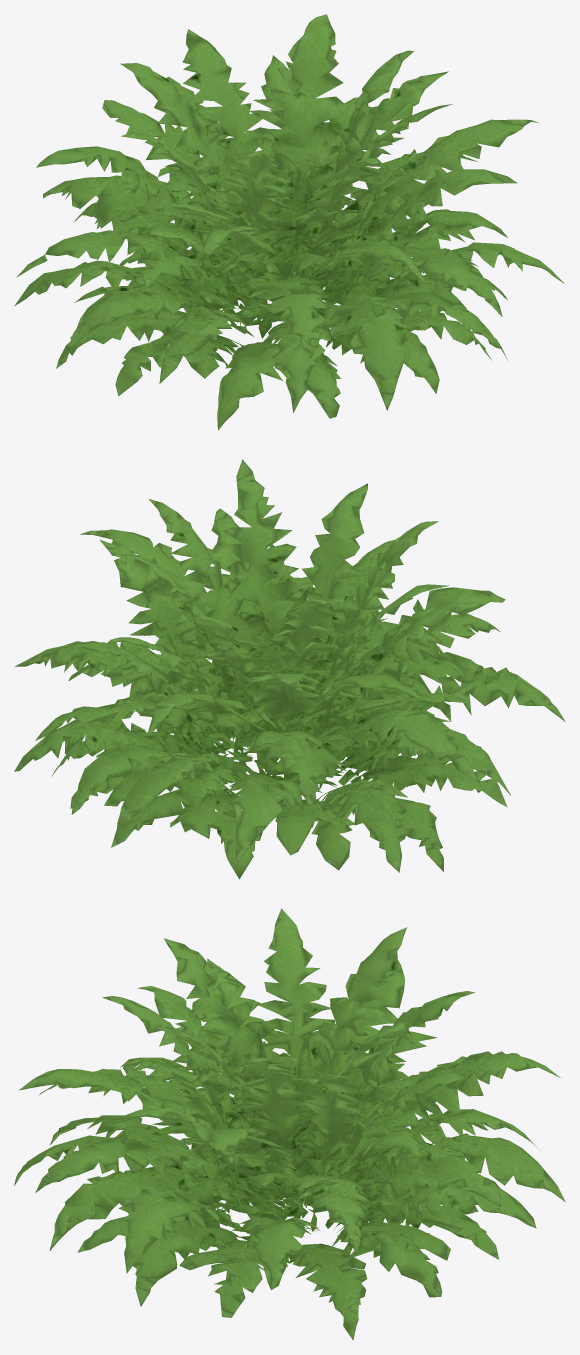
The model's file is prop_fern.glb.
3 views of the same model, one above another, from view 1: azimuth 30°, elevation 25°; view 2: azimuth 150°, elevation 25°; view 3: azimuth 270°, elevation 25° (orthographic).
Parts seen in each view (by area): view 1: Mesh_0; view 2: Mesh_0; view 3: Mesh_0.
Part boxes in pixels (<box>): Mesh_0: <box>14,14,564,430</box>; Mesh_0: <box>14,459,565,879</box>; Mesh_0: <box>14,908,565,1339</box>.
Size of the model in its own units: 1.85 by 1.02 by 1.9.
Materials: 1 (1 with a texture image).
